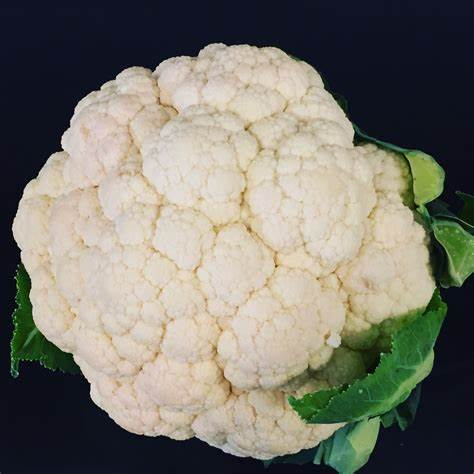Cauliflower: (4, 36, 461, 467)
